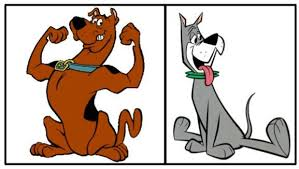scooby: (25, 7, 146, 163)
